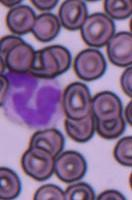N: (1, 72, 64, 130)
